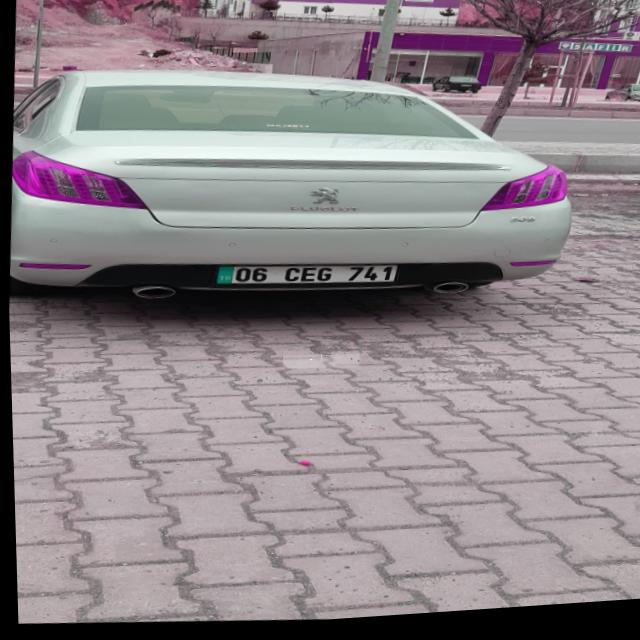license_plate: (280, 355, 360, 376)
